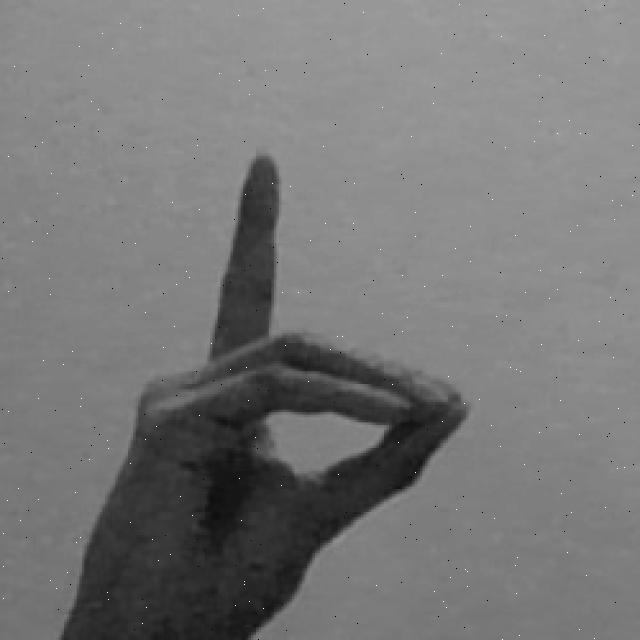D: (56, 148, 474, 640)
